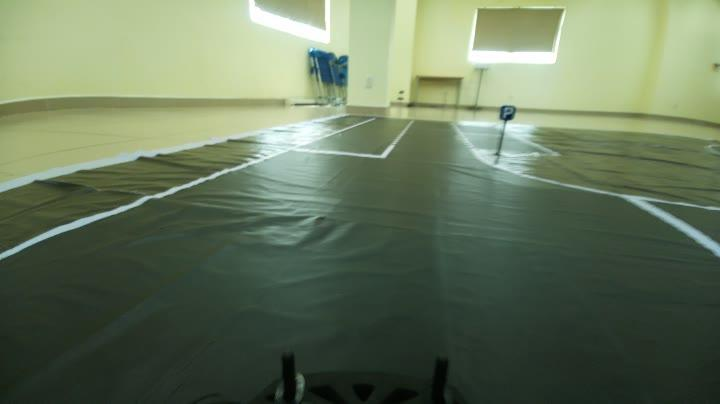parking: (496, 100, 515, 123)
